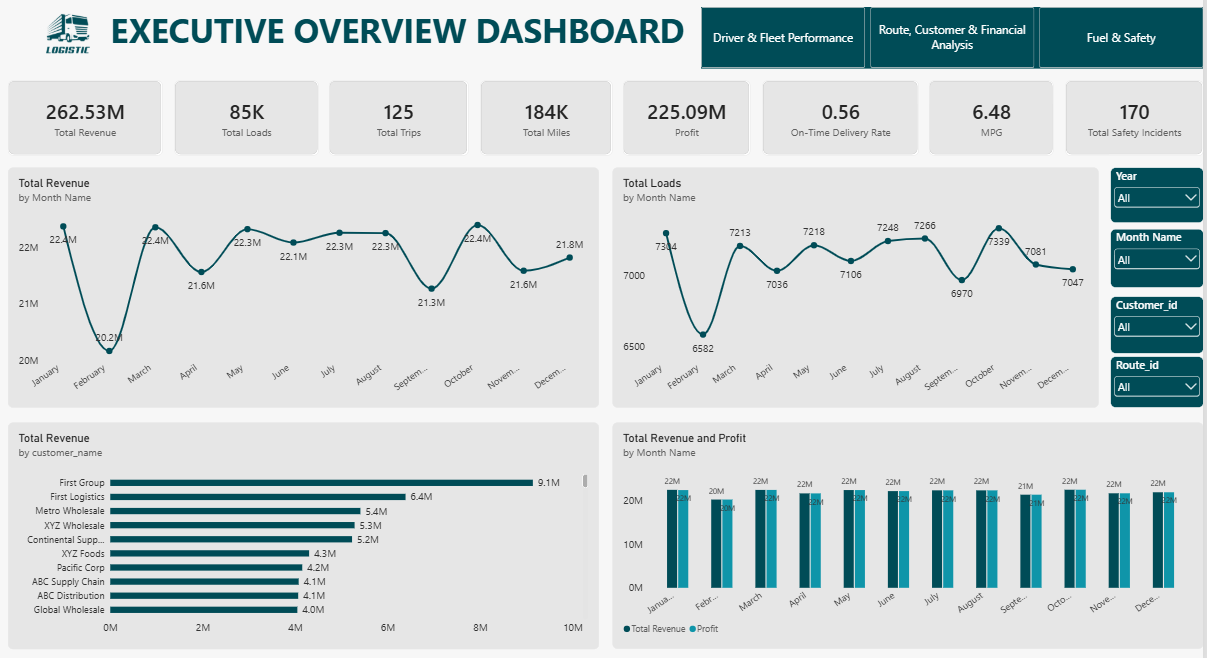

The page's visual inventory and layout, read from the dashboard file:
{"tool":"powerbi","page":{"name":"Executive Overview","canvas":[1920,1080],"ordinal":0},"visuals":[{"type":"cardVisual","fields":{"Data":["Loads.Total Revenue"]},"box":[19.1,150.7,245.7,119.3],"z":0},{"type":"cardVisual","fields":{"Data":["Loads.Total Loads"]},"box":[282.8,150.7,229,119.3],"z":1000},{"type":"cardVisual","fields":{"Data":["Trips.Total Trips"]},"box":[529.9,150.7,221.9,119.3],"z":2000},{"type":"cardVisual","fields":{"Data":["Trips.Total Miles"]},"box":[769.8,150.7,210,119.3],"z":3000},{"type":"cardVisual","fields":{"Data":["Fuel purchases.Profit"]},"box":[997.7,150.7,202.8,119.3],"z":4000},{"type":"cardVisual","fields":{"Data":["Delivery event.On-Time Rate"]},"box":[1218.5,150.7,248.6,119.3],"z":5000},{"type":"cardVisual","fields":{"Data":["Trips.MPG"]},"box":[1485.1,150.7,198,119.3],"z":6000},{"type":"cardVisual","fields":{"Data":["Safety incident.Total Incidents"]},"box":[1700.5,150.3,219.5,119.7],"z":7000},{"type":"lineChart","fields":{"Category":["DateTable.Month Name"],"Y":["Loads.Total Revenue"]},"box":[19.1,288.7,940.1,381.7],"z":8000},{"type":"lineChart","fields":{"Category":["DateTable.Month Name"],"Y":["Loads.Total Loads"]},"box":[980.6,288.7,773,381.7],"z":9000},{"type":"clusteredBarChart","fields":{"Category":["Customer.customer_name"],"Y":["Loads.Total Revenue"]},"box":[19.1,694.3,939.7,360.5],"z":10000},{"type":"clusteredColumnChart","fields":{"Category":["DateTable.Month Name"],"Y":["Loads.Total Revenue","Fuel purchases.Profit"]},"box":[980.6,694.3,940.1,360.3],"z":11000},{"type":"slicer","title":"Year","fields":{"Values":["DateTable.Year","DateTable.Year"]},"box":[1772.7,288.7,147.9,88.3],"z":12000},{"type":"slicer","fields":{"Values":["Customer.customer_id"]},"box":[1772.7,493.9,147.9,90.7],"z":13000},{"type":"slicer","fields":{"Values":["Route.route_id"]},"box":[1772.7,589.3,147.9,81.1],"z":14000},{"type":"slicer","fields":{"Values":["DateTable.Month Name"]},"box":[1772.7,386.5,147.9,93.1],"z":15000},{"type":"textbox","box":[155.1,33.4,966.3,97.8],"z":16000},{"type":"pageNavigator","box":[1121.4,33.4,799.3,97.8],"z":17000},{"type":"image","box":[4.8,0,219.5,150.3],"z":18000}]}

Visuals, with their boxes on the page's 1920x1080 design canvas (x1, y1, x2, y2). These are canvas units, not pixel positions in the 1207x658 screenshot, which may show the page scaled, cropped or inside an application window:
cardVisual - Loads.Total Revenue: 19:151:265:270
cardVisual - Loads.Total Loads: 283:151:512:270
cardVisual - Trips.Total Trips: 530:151:752:270
cardVisual - Trips.Total Miles: 770:151:980:270
cardVisual - Fuel purchases.Profit: 998:151:1200:270
cardVisual - Delivery event.On-Time Rate: 1218:151:1467:270
cardVisual - Trips.MPG: 1485:151:1683:270
cardVisual - Safety incident.Total Incidents: 1700:150:1920:270
lineChart - DateTable.Month Name x Loads.Total Revenue: 19:289:959:670
lineChart - DateTable.Month Name x Loads.Total Loads: 981:289:1754:670
clusteredBarChart - Customer.customer_name x Loads.Total Revenue: 19:694:959:1055
clusteredColumnChart - DateTable.Month Name x Loads.Total Revenue: 981:694:1921:1055
"Year" slicer: 1773:289:1921:377
slicer - Customer.customer_id: 1773:494:1921:585
slicer - Route.route_id: 1773:589:1921:670
slicer - DateTable.Month Name: 1773:386:1921:480
textbox: 155:33:1121:131
pageNavigator: 1121:33:1921:131
image: 5:0:224:150
